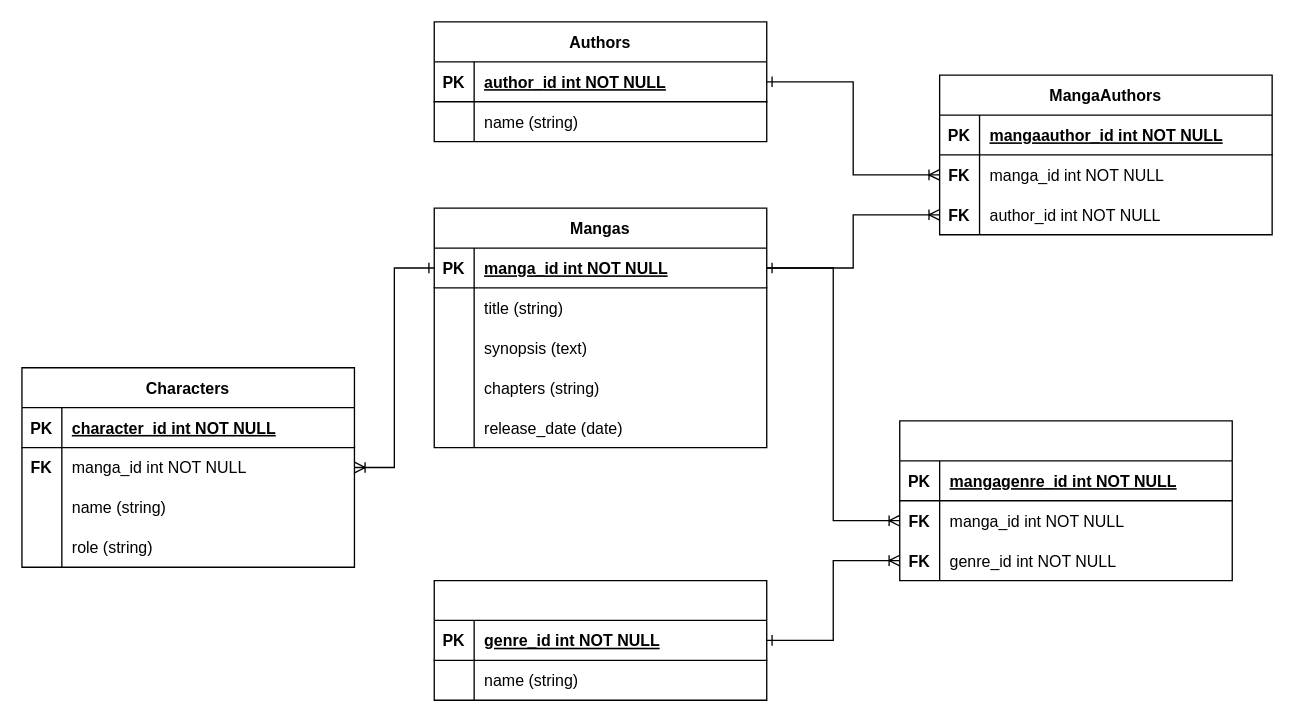
The diagram is 1294 pixels wide and 722 high, and some of its shapes have lost their labels. Each missing label, with the box of its shape:
Genres: (433, 579, 767, 700)
MangaGenres: (898, 420, 1232, 581)
